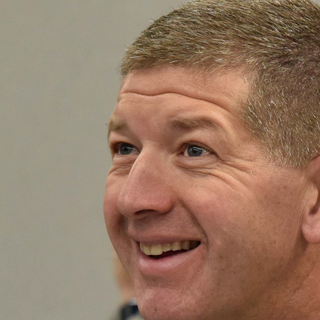eye: (172, 139, 221, 165), (106, 138, 143, 162)
